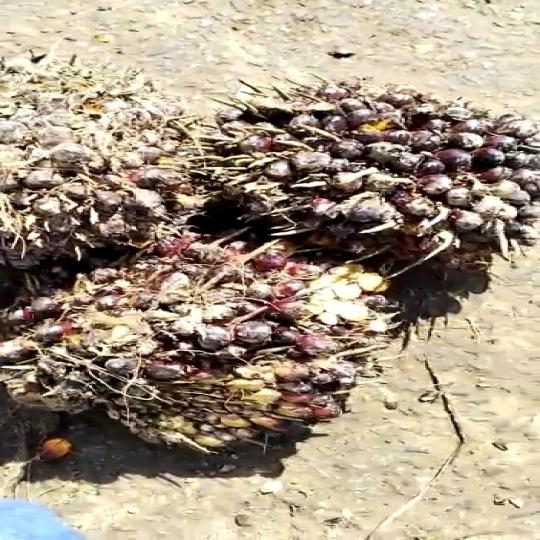kurang masak: (0, 242, 400, 452), (188, 76, 540, 257), (0, 29, 201, 265)
